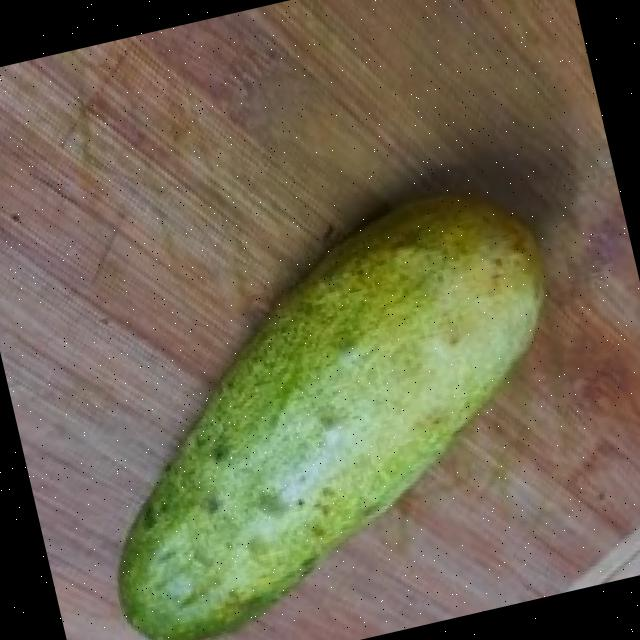tomato: (118, 197, 543, 640)
